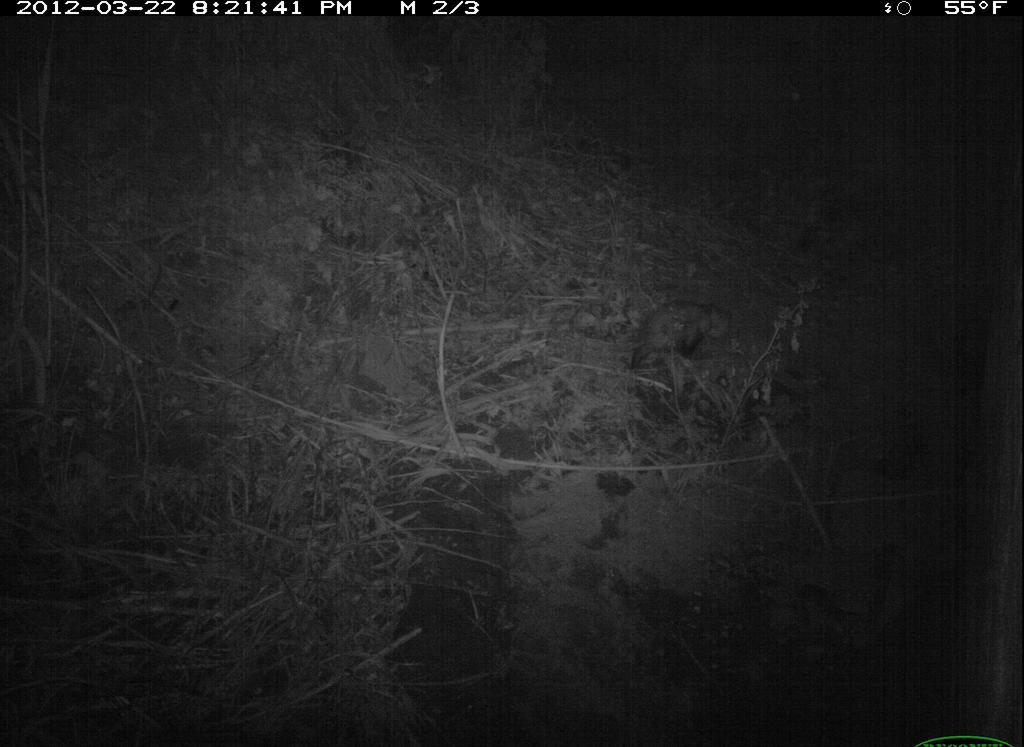opossum: (615, 295, 742, 387)
